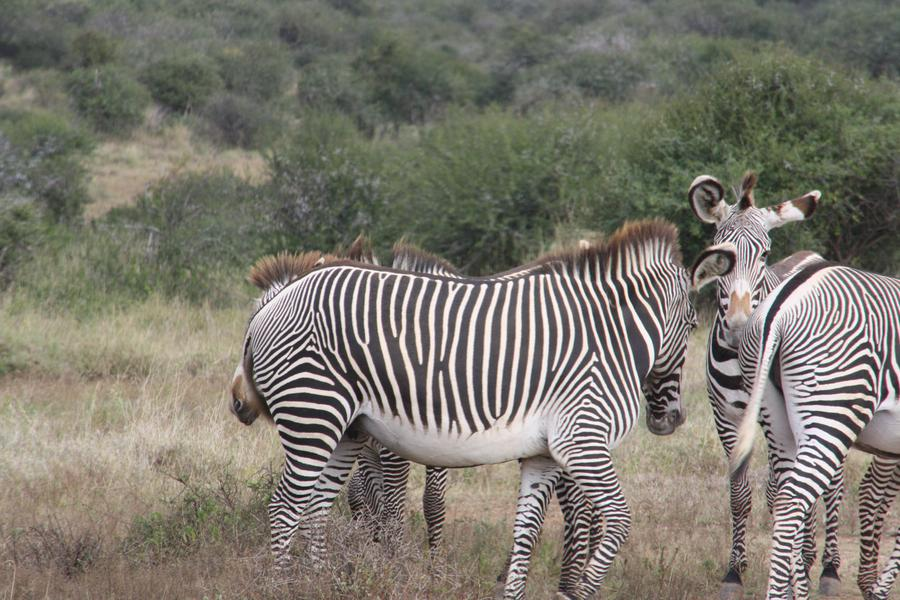zebra_grevys: (249, 251, 615, 450)
